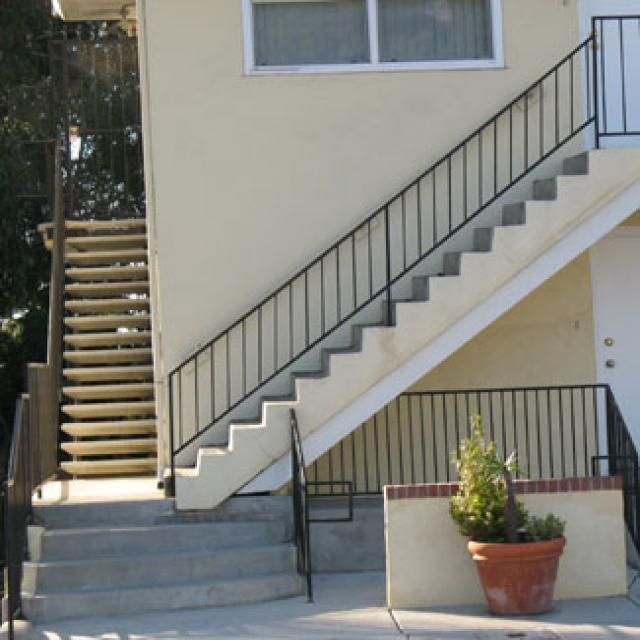stairs: (36, 215, 158, 480)
